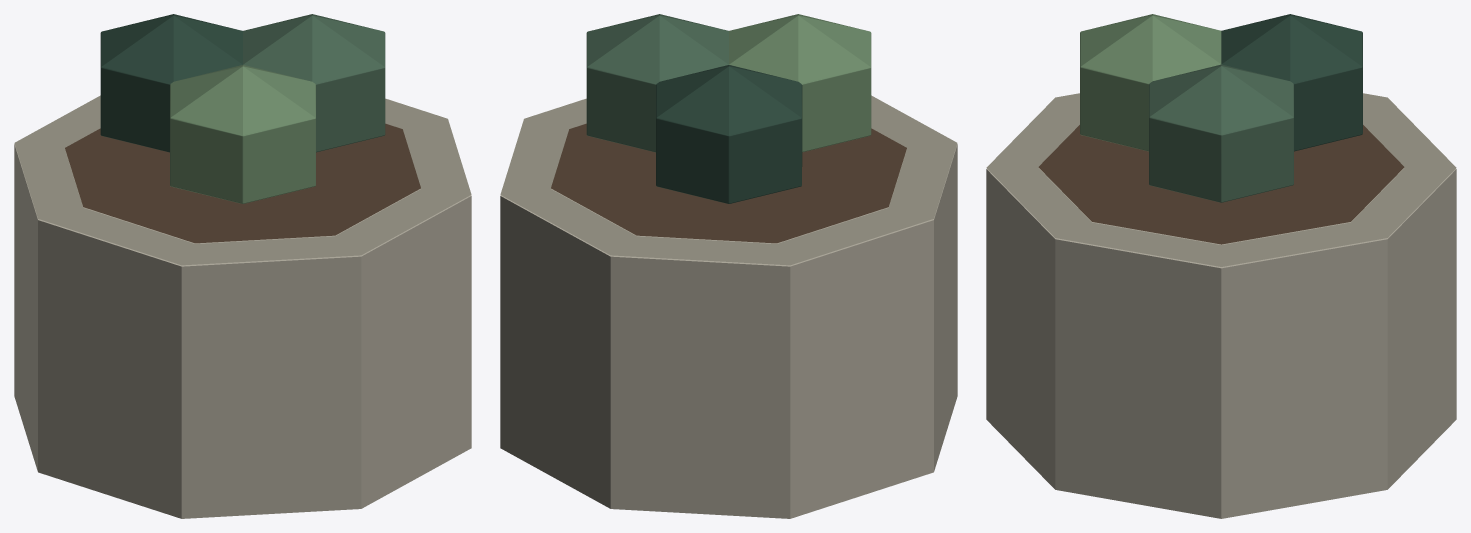
The model's file is gate.planter_low.glb.
3 views of the same model, side by side, from view 1: azimuth 30°, elevation 25°; view 2: azimuth 150°, elevation 25°; view 3: azimuth 270°, elevation 25° (orthographic).
Bounding box in the file's own units: 0.68 × 0.618 × 0.68.
